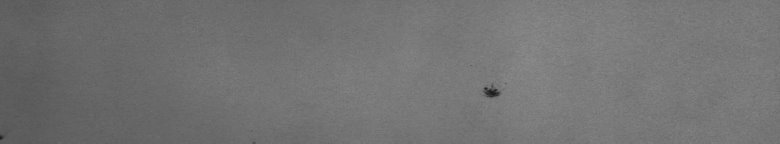fi: (480, 78, 504, 105)
